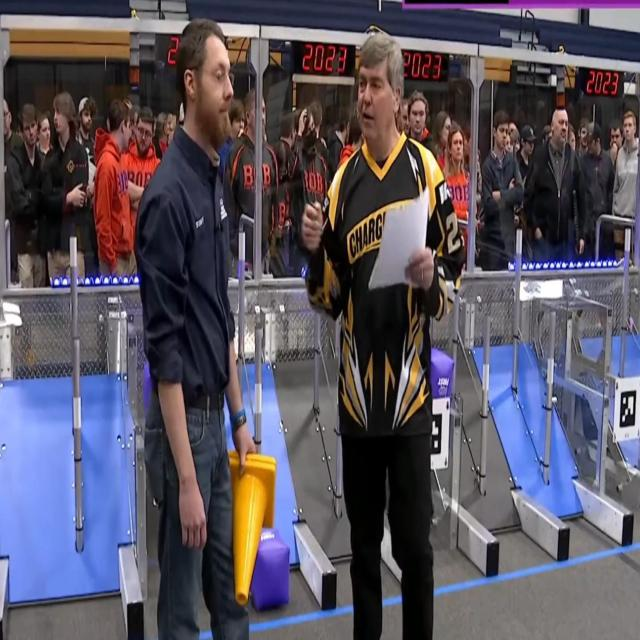frc_cone: (224, 444, 278, 610)
frc_cube: (254, 532, 289, 608), (428, 348, 453, 399), (139, 364, 159, 421)
